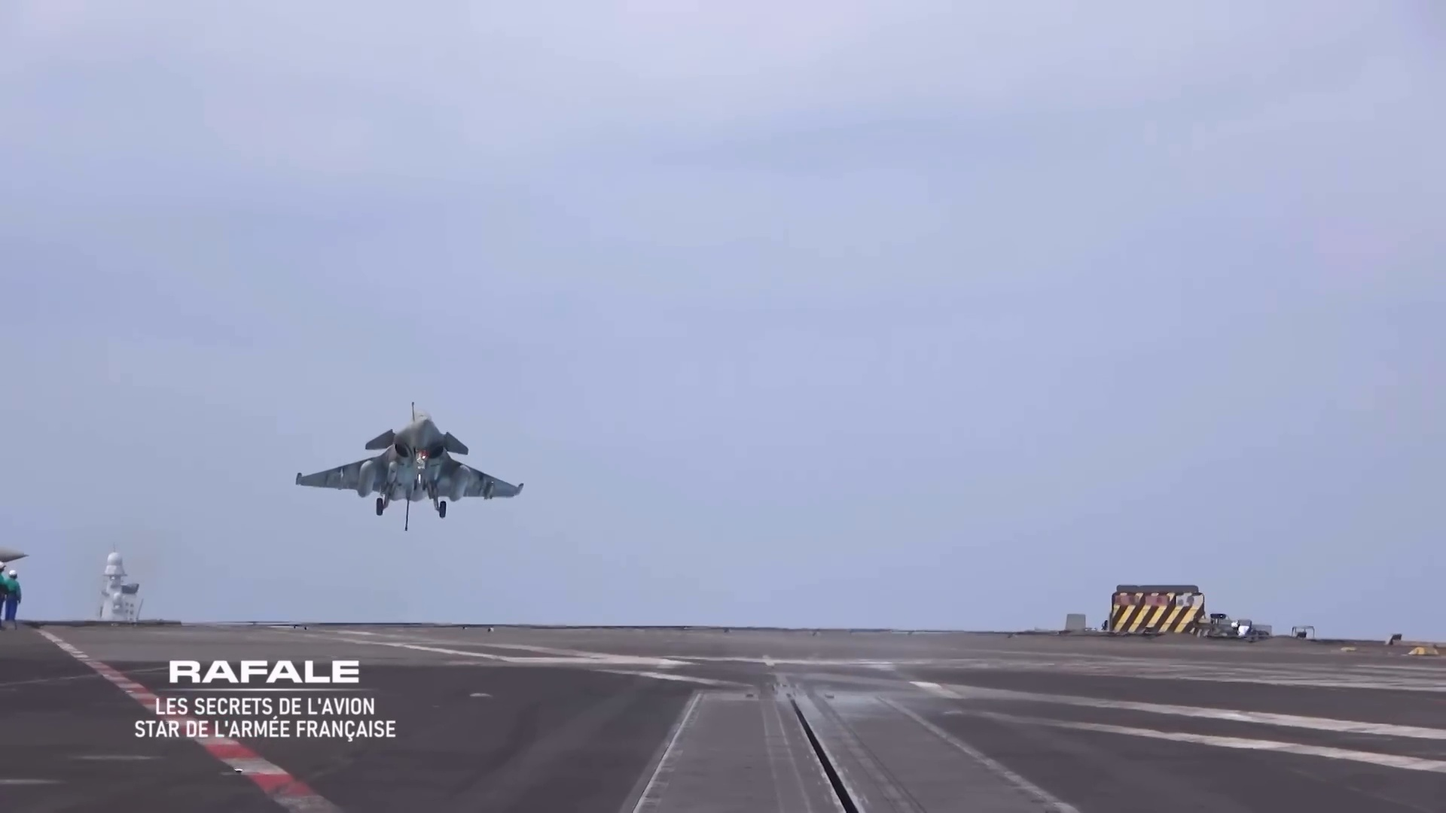Rafale: (296, 399, 527, 532)
